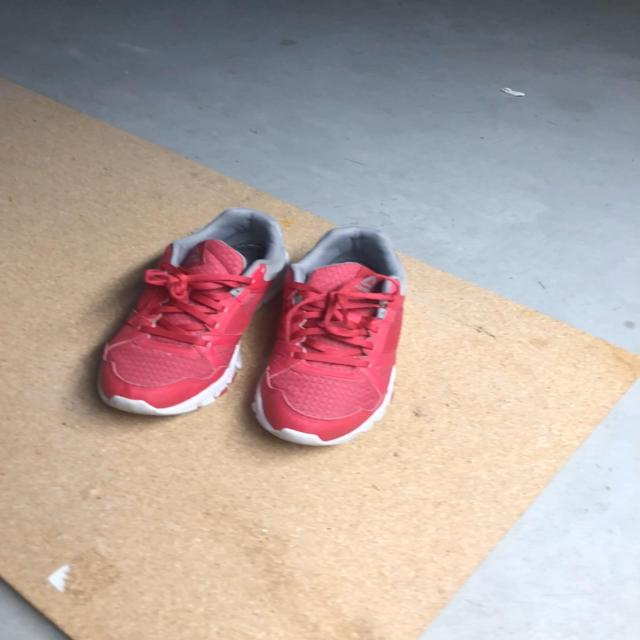shoe: (95, 210, 280, 417), (252, 228, 407, 450)
